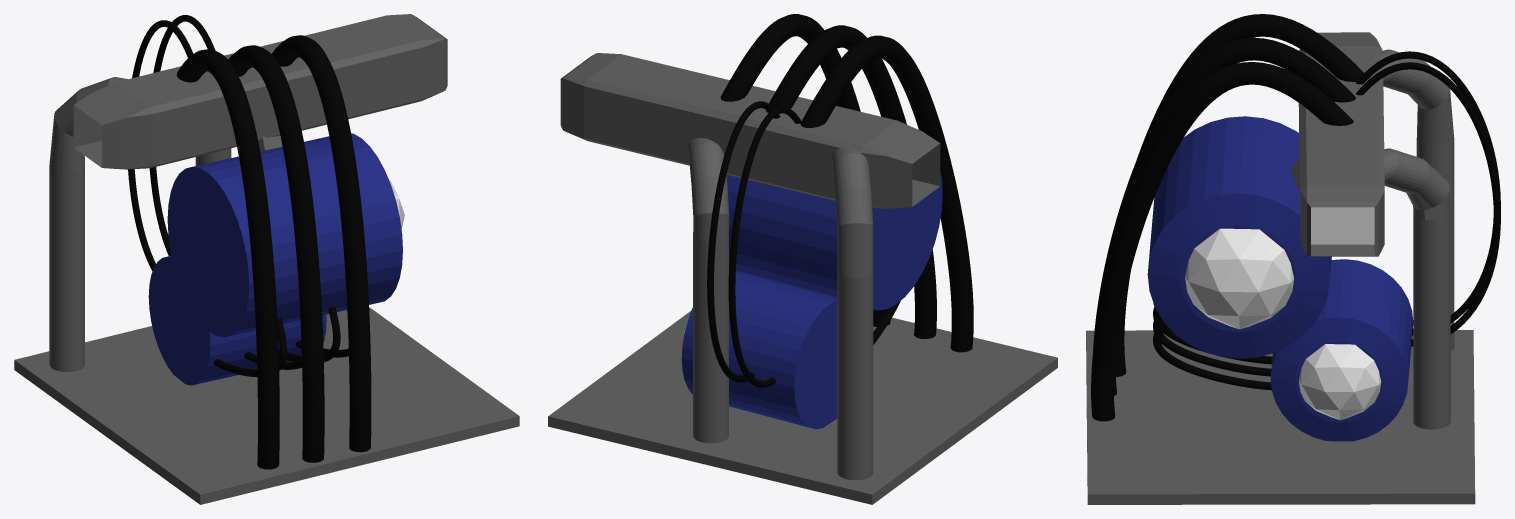
File: PowerGenlevel8.fbx
The picture shows the model from 3 angles, left to right: view 1: azimuth 30°, elevation 25°; view 2: azimuth 150°, elevation 25°; view 3: azimuth 270°, elevation 25°; orthographic projection. The views are drawn at different scales.
Visible parts, largest first — view 1: Cube, Cylinder.001, Cube.001, NurbsPath.002, NurbsPath, NurbsPath.001, Cylinder, NurbsPath.007, NurbsPath.008, NurbsPath.005, NurbsPath.003; view 2: Cube, Cube.001, Cylinder.001, Cylinder, NurbsPath.002, NurbsPath.001, NurbsPath, NurbsPath.007, NurbsPath.008; view 3: Cube, Cylinder.001, Cylinder, Cube.001, NurbsPath, NurbsPath.001, NurbsPath.002, NurbsPath.008, NurbsPath.007, NurbsPath.006, NurbsPath.003, NurbsPath.004.
Part boxes in pixels (x1,y1,x2,y2): Cube: [14, 77, 519, 504]; Cylinder.001: [167, 133, 404, 337]; Cube.001: [73, 14, 447, 169]; NurbsPath.002: [176, 49, 279, 469]; NurbsPath: [272, 35, 371, 452]; NurbsPath.001: [228, 45, 324, 462]; Cylinder: [148, 255, 326, 385]; NurbsPath.007: [128, 20, 193, 270]; NurbsPath.008: [149, 15, 215, 256]; NurbsPath.005: [213, 318, 287, 376]; NurbsPath.003: [278, 306, 340, 362]; Cube: [548, 138, 1057, 504]; Cube.001: [560, 53, 940, 208]; Cylinder.001: [726, 172, 942, 310]; Cylinder: [681, 271, 837, 429]; NurbsPath.002: [800, 35, 973, 352]; NurbsPath.001: [766, 25, 936, 338]; NurbsPath: [720, 14, 890, 326]; NurbsPath.007: [728, 106, 801, 387]; NurbsPath.008: [707, 101, 780, 382]; Cube: [1086, 49, 1475, 504]; Cylinder.001: [1147, 116, 1331, 358]; Cylinder: [1270, 259, 1413, 441]; Cube.001: [1298, 32, 1384, 256]; NurbsPath: [1091, 62, 1353, 421]; NurbsPath.001: [1093, 37, 1355, 395]; NurbsPath.002: [1115, 14, 1363, 376]; NurbsPath.008: [1356, 62, 1500, 346]; NurbsPath.007: [1356, 51, 1500, 335]; NurbsPath.006: [1153, 320, 1271, 390]; NurbsPath.003: [1153, 313, 1271, 376]; NurbsPath.004: [1153, 306, 1272, 364].
Bounding box in the file's own units: 2.22 × 2.16 × 2.14.
